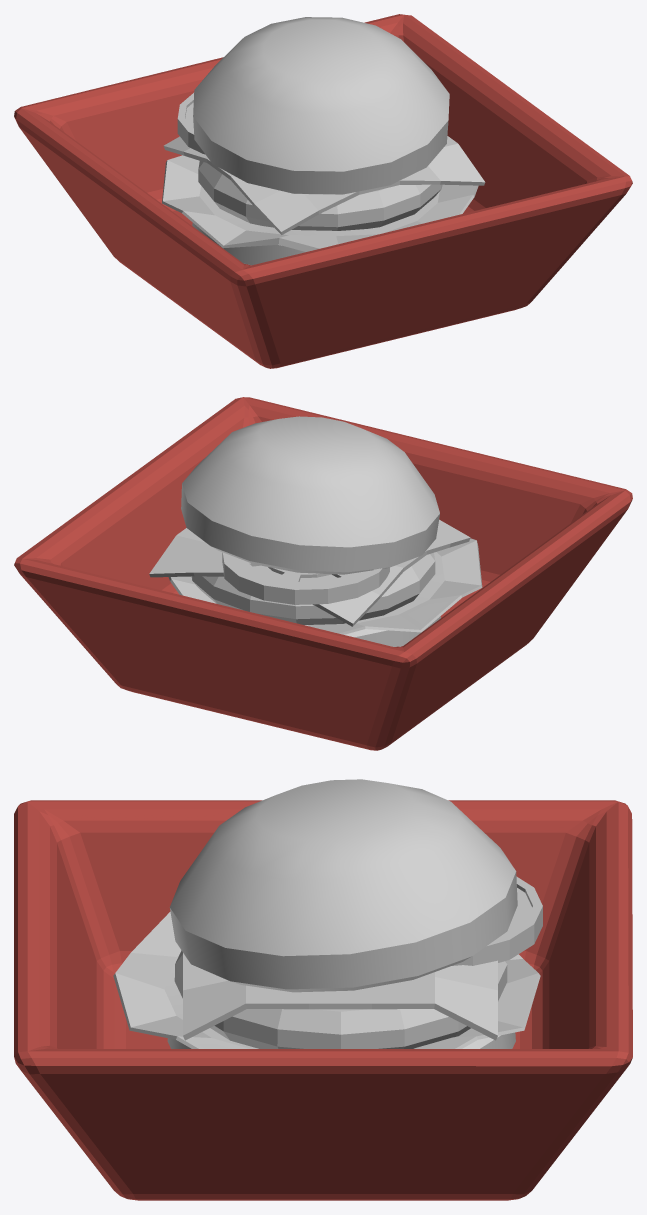
Rendered from burgerplate.fbx.
3 renders of one model, top to bottom at view 1: azimuth 30°, elevation 25°; view 2: azimuth 150°, elevation 25°; view 3: azimuth 270°, elevation 25°, orthographic. The views are drawn at different scales.
Visible parts, largest first — view 1: burgerplate; view 2: burgerplate; view 3: burgerplate.
Part boxes in pixels (x1=…): burgerplate: x1=14, y1=14, x2=632, y2=368; burgerplate: x1=14, y1=397, x2=632, y2=750; burgerplate: x1=14, y1=779, x2=632, y2=1200.
Bounding box in the file's own units: 393 × 393 × 225.
